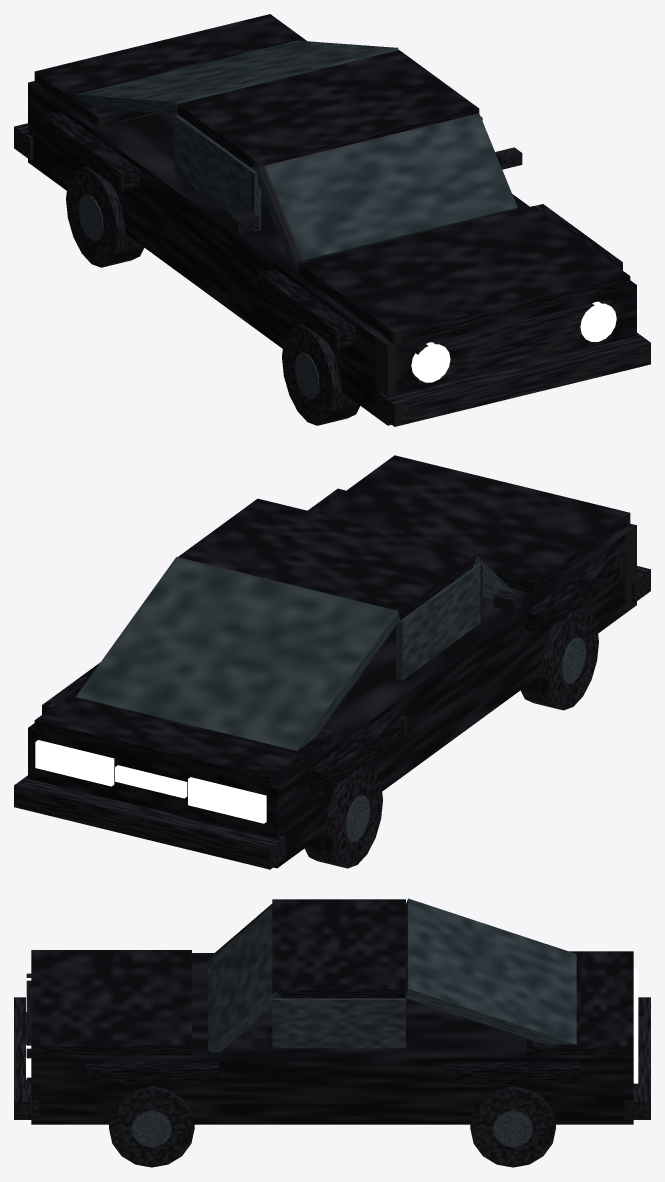
The model's file is coupe.glb.
The picture shows the model from 3 angles, top to bottom: view 1: azimuth 30°, elevation 25°; view 2: azimuth 150°, elevation 25°; view 3: azimuth 270°, elevation 25°; orthographic projection. The views are drawn at different scales.
Visible parts, largest first — view 1: coupe; view 2: coupe; view 3: coupe.
Boxes of the visible parts, x1,y1,x2,y2 form: coupe: [14, 14, 650, 426]; coupe: [14, 455, 650, 869]; coupe: [14, 898, 650, 1167].
Size of the model in its own units: 2.06 by 1.4 by 4.76.
3 materials, 1 textured.
